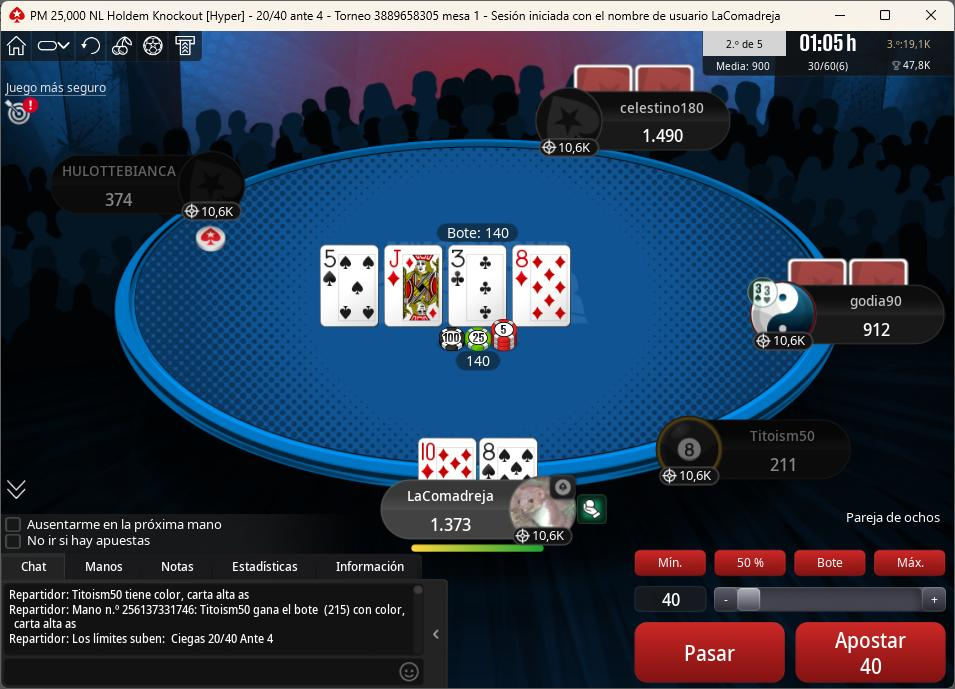ButtonCall: (623, 617, 782, 686)
ButtonMaxRaise: (872, 548, 948, 580)
ButtonMinRaise: (634, 548, 714, 580)
ButtonRaise: (790, 617, 951, 686)
Dealer: (187, 221, 240, 256)
HiddenCards: (785, 259, 918, 285), (574, 68, 704, 94)
Player: (744, 284, 950, 351), (542, 88, 732, 157), (47, 151, 247, 215), (652, 422, 853, 485)
PlayerChips: (631, 125, 692, 144), (763, 454, 810, 476), (94, 192, 142, 211), (858, 324, 903, 343)
Pot: (433, 224, 522, 243)
PrincipalCards: (414, 438, 545, 484)
PrincipalCards1: (415, 436, 478, 482)
PrincipalCards2: (480, 437, 542, 482)
PrincipalPlayer: (385, 477, 594, 552)
PrincipalPlayerChips: (420, 518, 482, 538)
ShowedCards: (317, 244, 574, 327)
ShowedCards1: (319, 243, 383, 329)
ShowedCards2: (384, 246, 447, 329)
ShowedCards3: (446, 246, 509, 329)
ShowedCards4: (512, 241, 574, 327)
SmallBigBlind: (243, 3, 348, 26)
TablePot: (432, 325, 541, 382)
